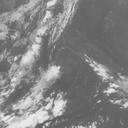cyclone: (36, 48, 94, 102)
